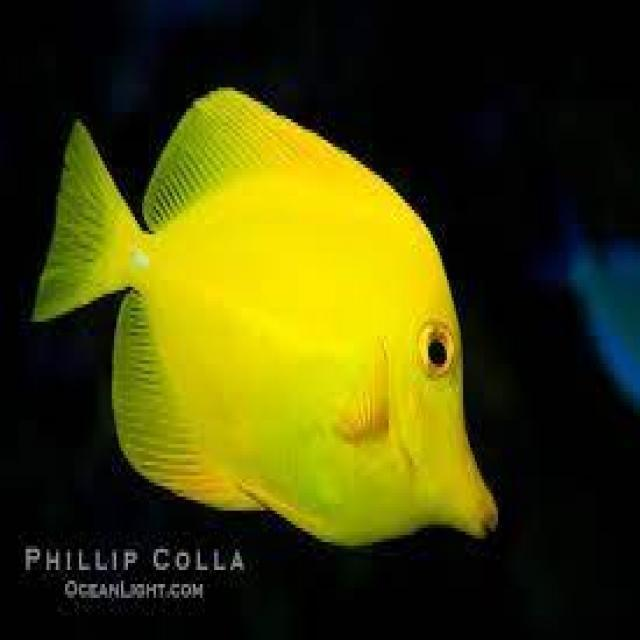TangFish: (32, 89, 499, 543)
